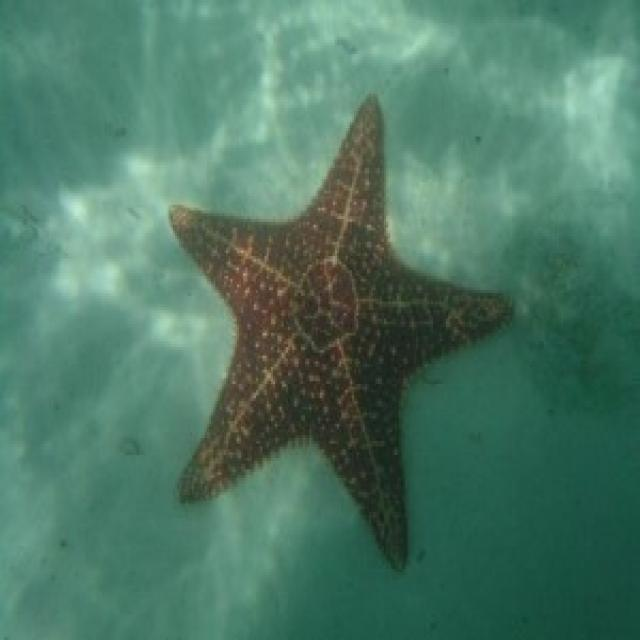Starfish: (168, 90, 512, 578)
